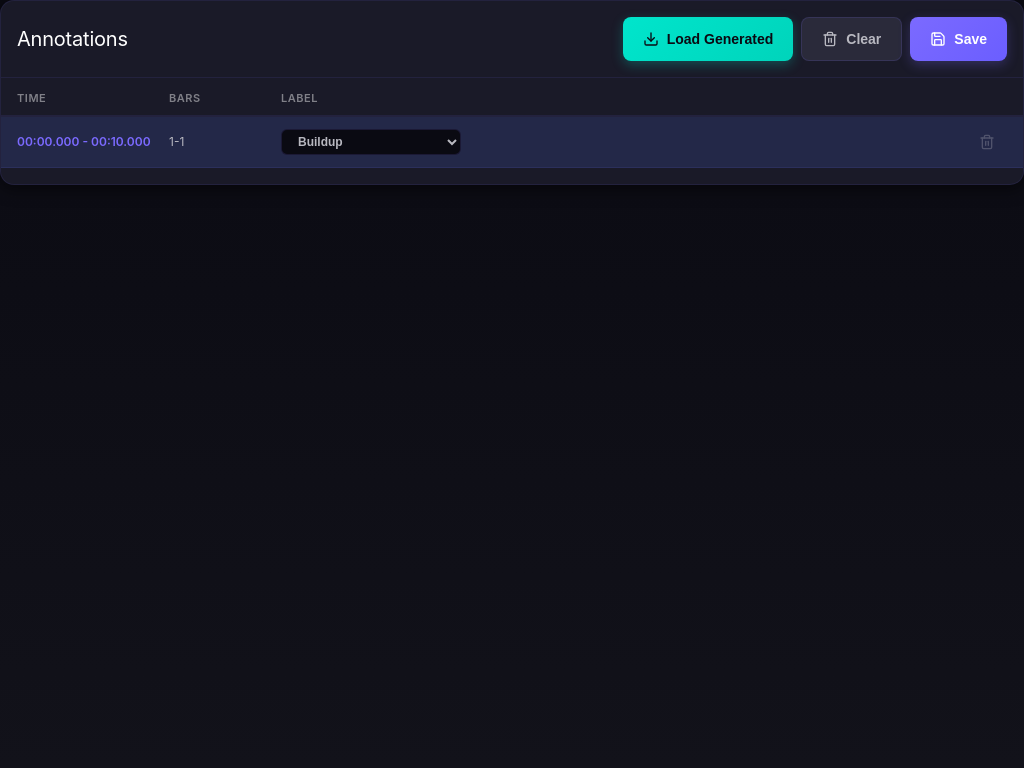
Test: RegionListContainer › Unsaved Changes Confirmation - Load › shows confirmation dialog when loading with unsaved changes
Click the button "Load Generated" at [708, 39], box [623,17,793,61]
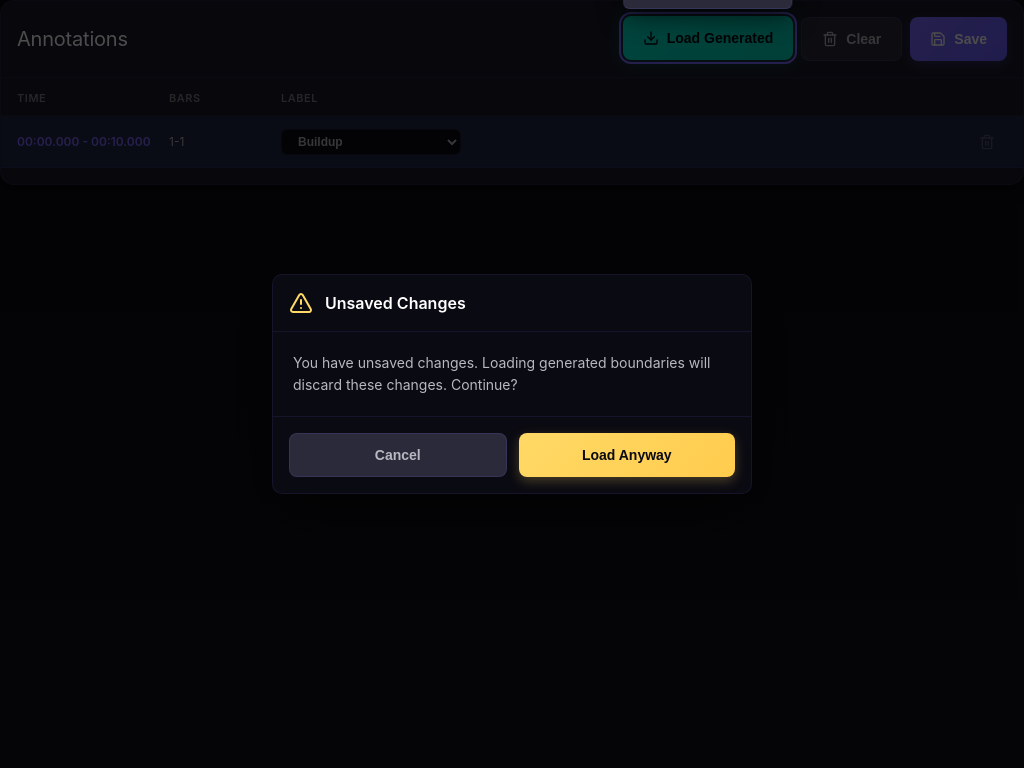
Now the heading "Unsaved Changes" is shown, box [325,291,466,315]
Now the text "Loading generated boundaries will discard" is shown, box [293,354,710,393]
